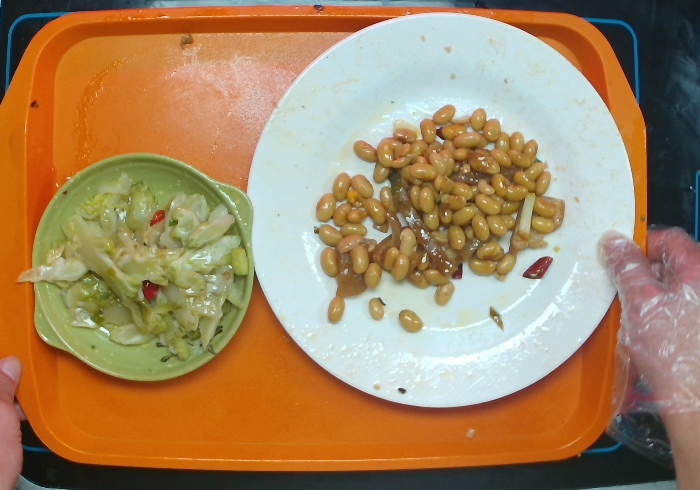NLDX-Da_Yuan_Pan: (234, 8, 630, 406)
NLDX-Lv_Hua_Shuang_Er_Die: (30, 154, 264, 384)
